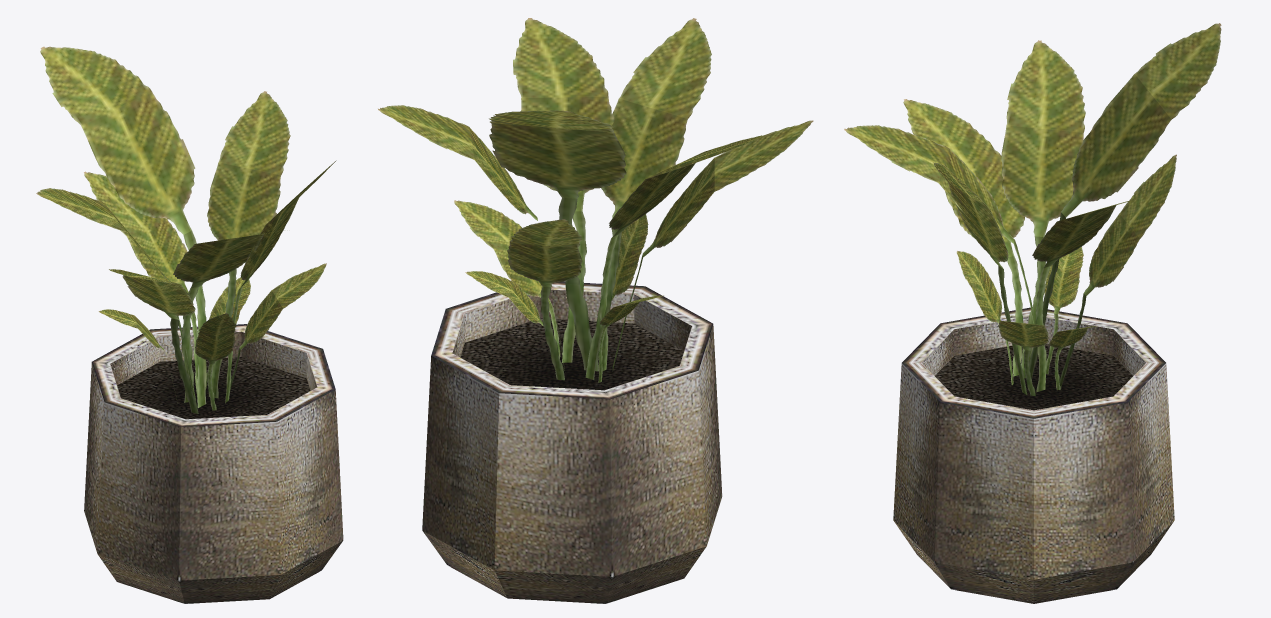
Rendered from Macetapequeña2.fbx.
The picture shows the model from 3 angles, left to right: view 1: azimuth 30°, elevation 25°; view 2: azimuth 150°, elevation 25°; view 3: azimuth 270°, elevation 25°; orthographic projection. The views are drawn at different scales.
Parts seen in each view (by area): view 1: pot3.001; view 2: pot3.001; view 3: pot3.001.
Boxes of the visible parts, box(x1,y1,x2,y2) form: pot3.001: box(36, 46, 343, 603); pot3.001: box(378, 18, 813, 603); pot3.001: box(844, 23, 1221, 603).
Bounding box in the file's own units: 49.03 × 68.14 × 52.46.
2 materials, 2 textured.
